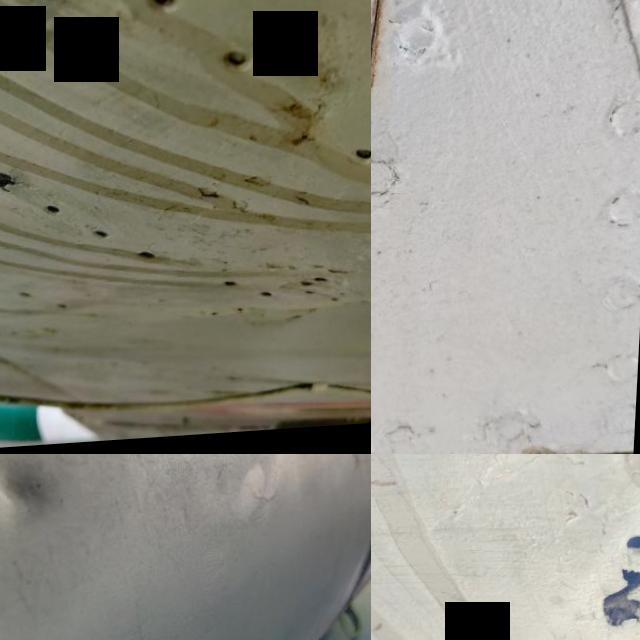Crack: (582, 555, 640, 640), (0, 117, 45, 216)
Dent: (0, 454, 96, 558)
